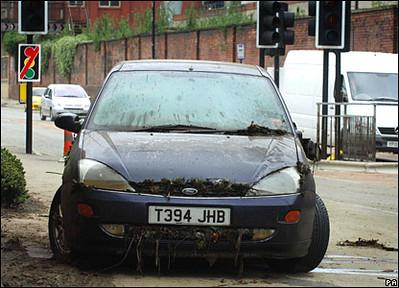bonnet-dent: (78, 123, 300, 184)
front-bumper-dent: (64, 188, 317, 261)
